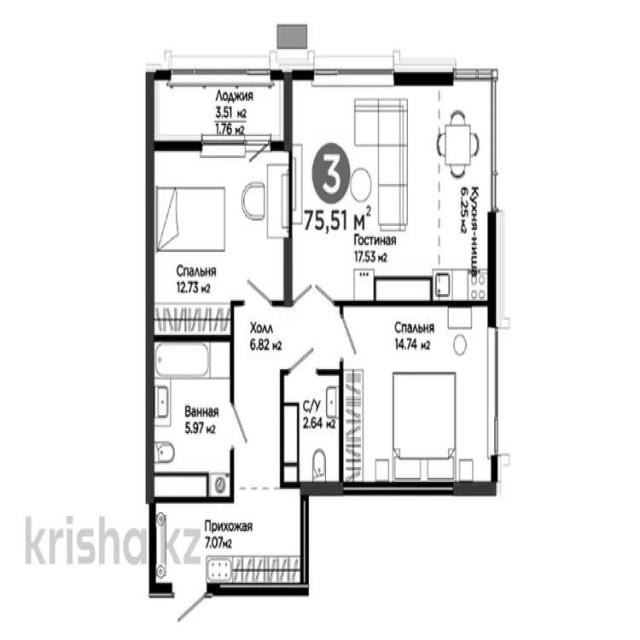balcony: (147, 70, 291, 152)
bathroom: (146, 338, 234, 502), (280, 370, 344, 490)
hallway: (150, 303, 343, 592)
living_room: (339, 301, 497, 495), (147, 142, 291, 305)
studio: (287, 71, 496, 305)
